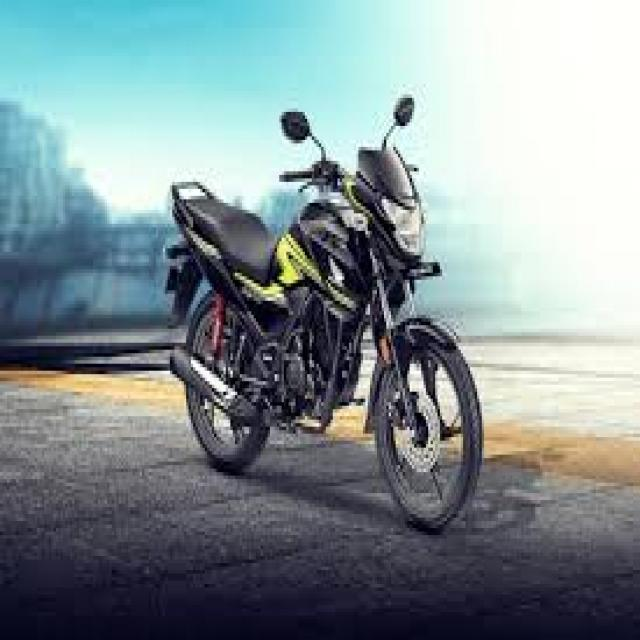Bike: (164, 92, 484, 536)
